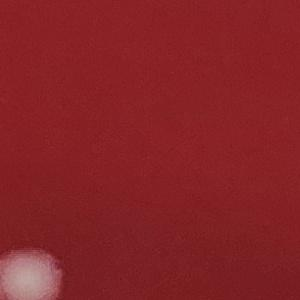colony: (0, 243, 75, 300)
